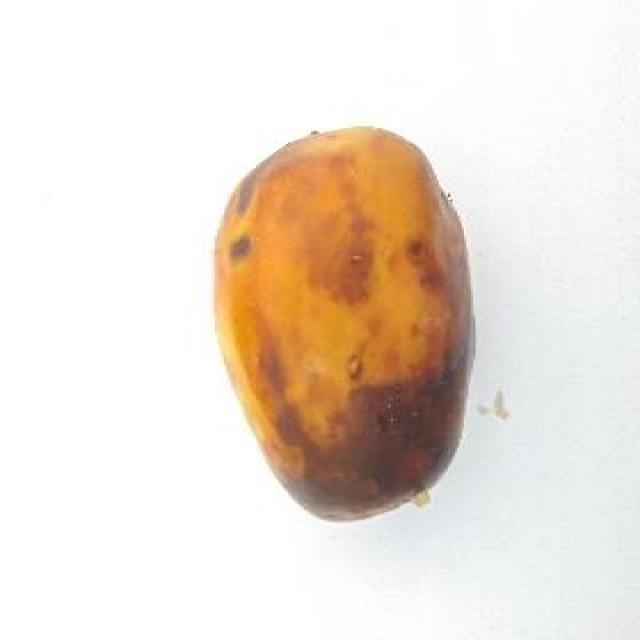Rotten: (193, 123, 500, 519)
